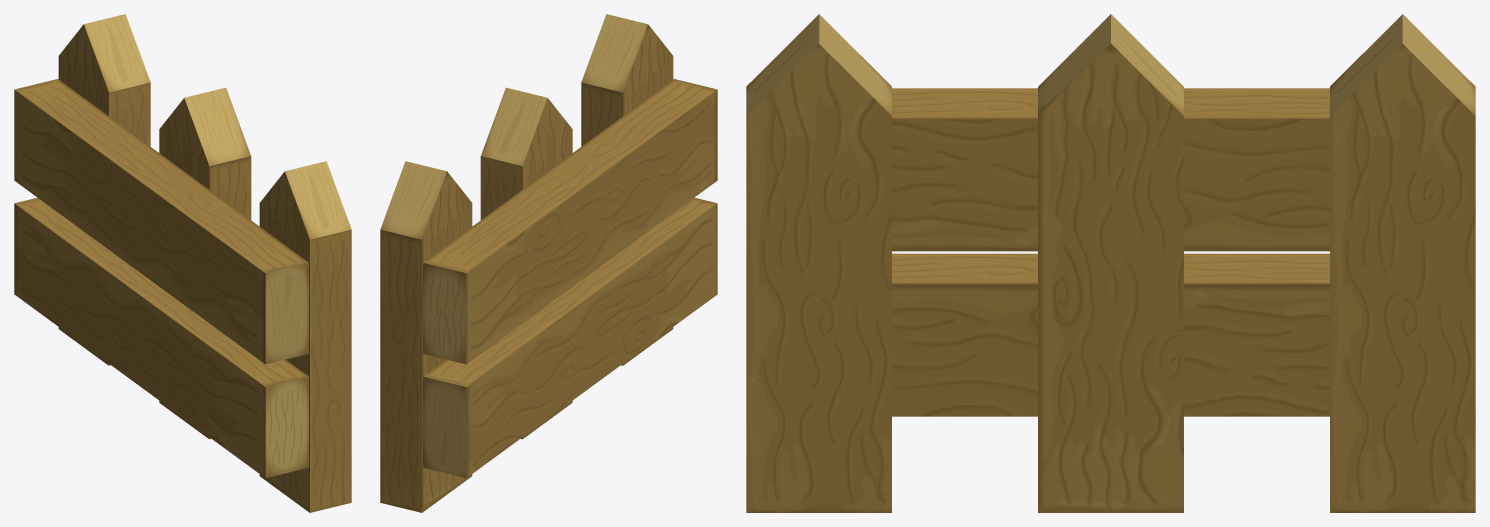
The model's file is Fence_ForestProp_001.fbx.
3 views of the same model, side by side, from view 1: azimuth 30°, elevation 25°; view 2: azimuth 150°, elevation 25°; view 3: azimuth 270°, elevation 25° (orthographic). The views are drawn at different scales.
Visible parts, largest first — view 1: 立方体.001, 立方体.005, 立方体, 立方体.003, 立方体.004; view 2: 立方体.001, 立方体.005, 立方体.004, 立方体.003, 立方体; view 3: 立方体, 立方体.003, 立方体.004, 立方体.001, 立方体.005.
Boxes of the visible parts, <box> form: 立方体.001: <box>14,79,308,364</box>; 立方体.005: <box>14,197,308,478</box>; 立方体: <box>259,161,351,512</box>; 立方体.003: <box>159,87,251,439</box>; 立方体.004: <box>58,14,150,365</box>; 立方体.001: <box>423,79,717,364</box>; 立方体.005: <box>423,197,717,478</box>; 立方体.004: <box>380,161,472,512</box>; 立方体.003: <box>480,87,572,439</box>; 立方体: <box>581,14,673,365</box>; 立方体: <box>746,14,891,512</box>; 立方体.003: <box>1038,14,1183,512</box>; 立方体.004: <box>1330,14,1475,512</box>; 立方体.001: <box>892,88,1329,251</box>; 立方体.005: <box>892,253,1329,416</box>.
Size of the model in its own units: 198 by 710 by 1000.
